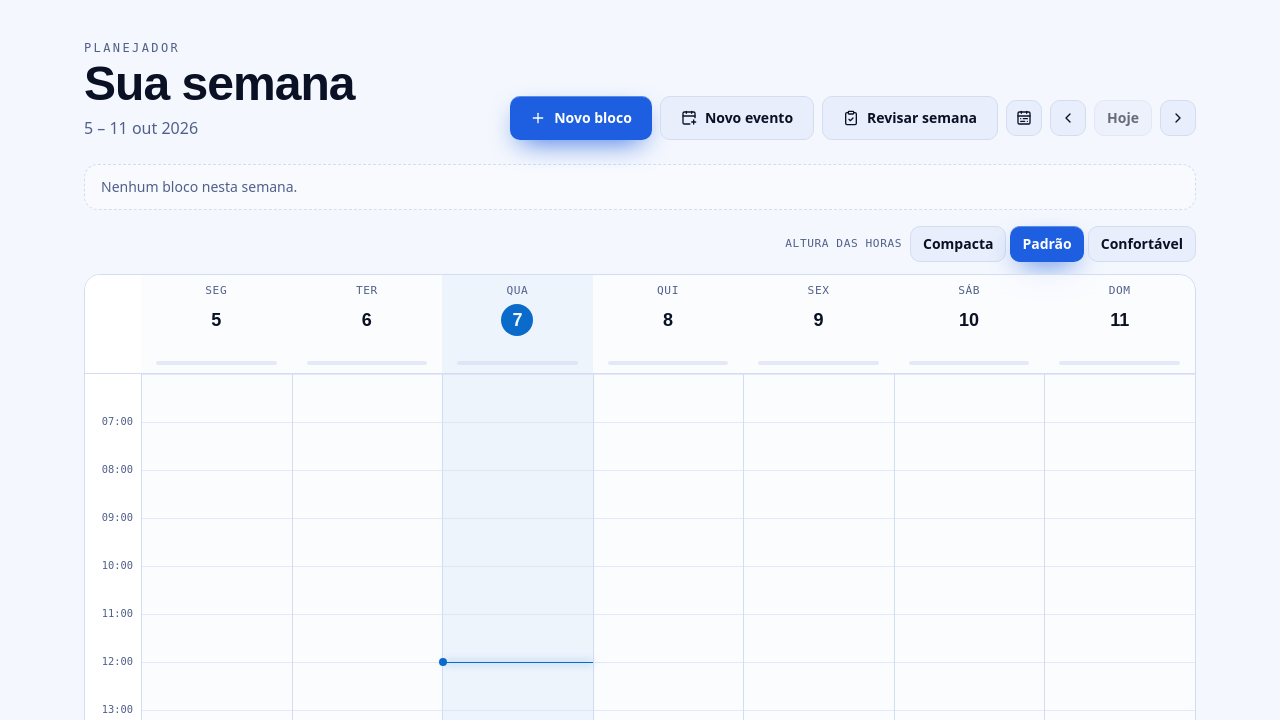
Test: eventos na Semana › criar evento › mostra o erro do servidor e mantém o diálogo aberto
Click the button "Novo evento" at {"x": 737, "y": 118}, box [660,96,814,140]
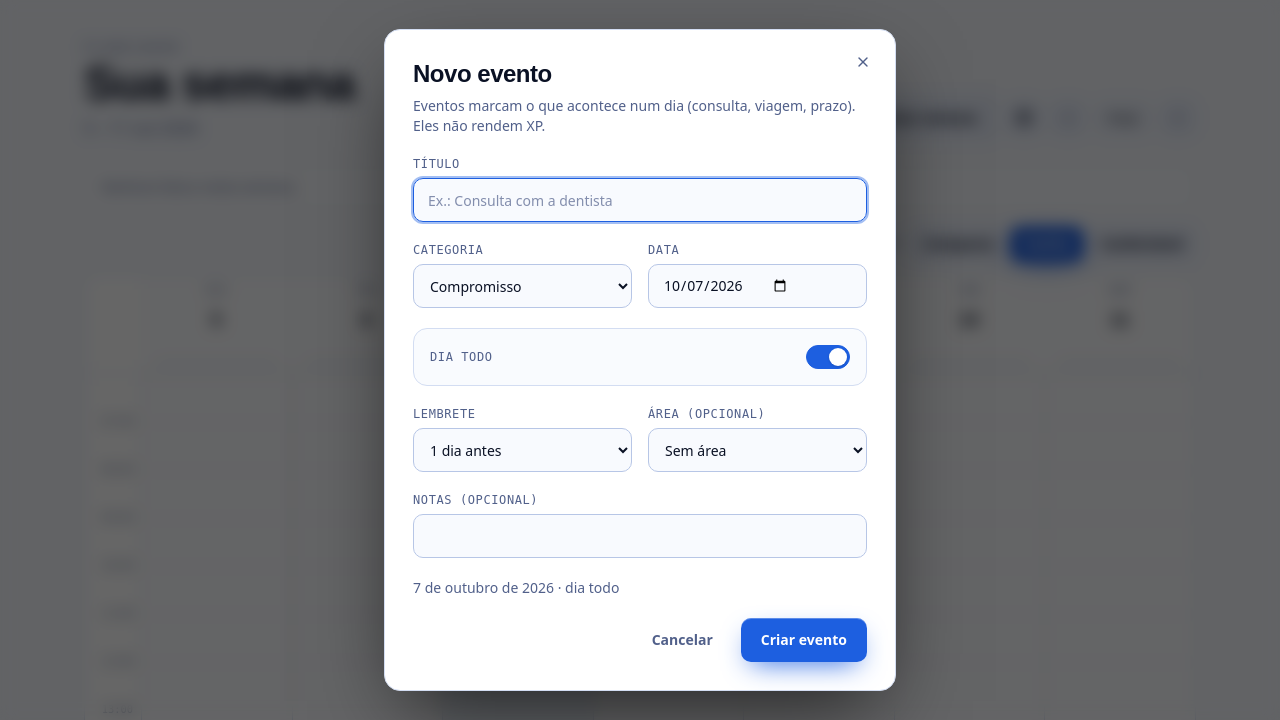
Type "Evento" into the field labelled "Título" at {"x": 640, "y": 200}, box [413,178,867,222]
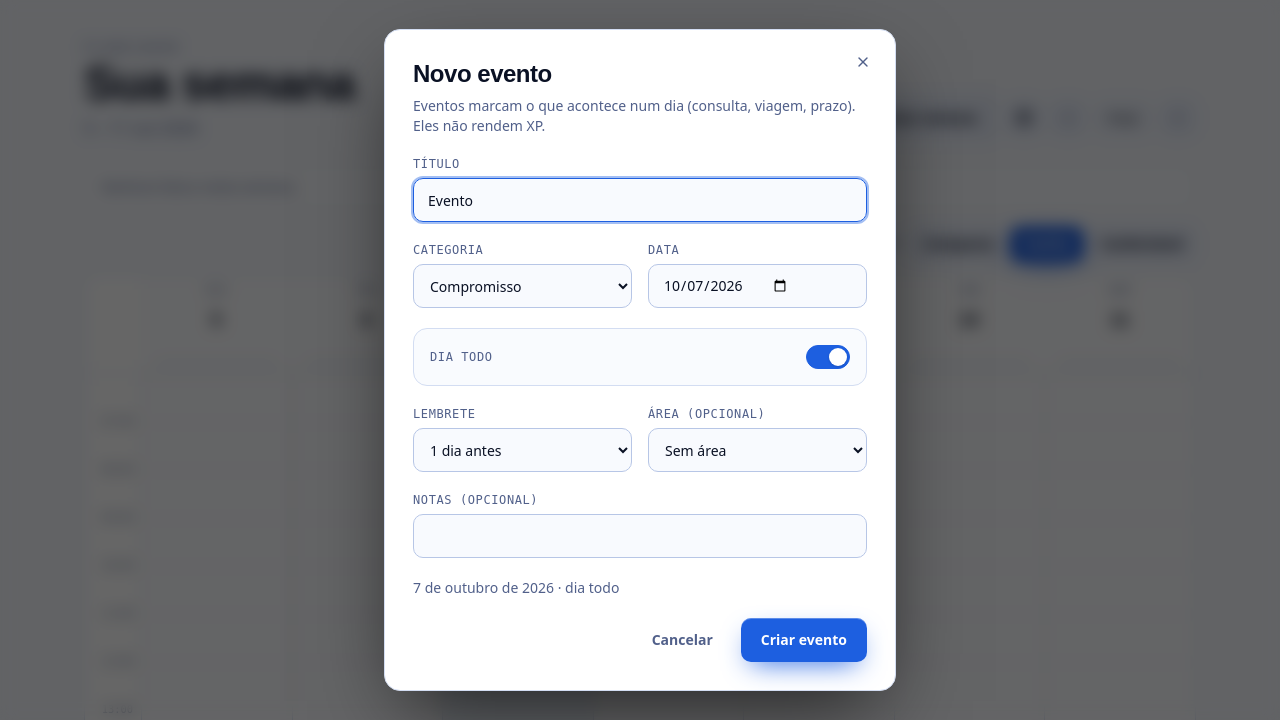
Click the button "Criar evento" at {"x": 804, "y": 640}, box [741,618,867,662]
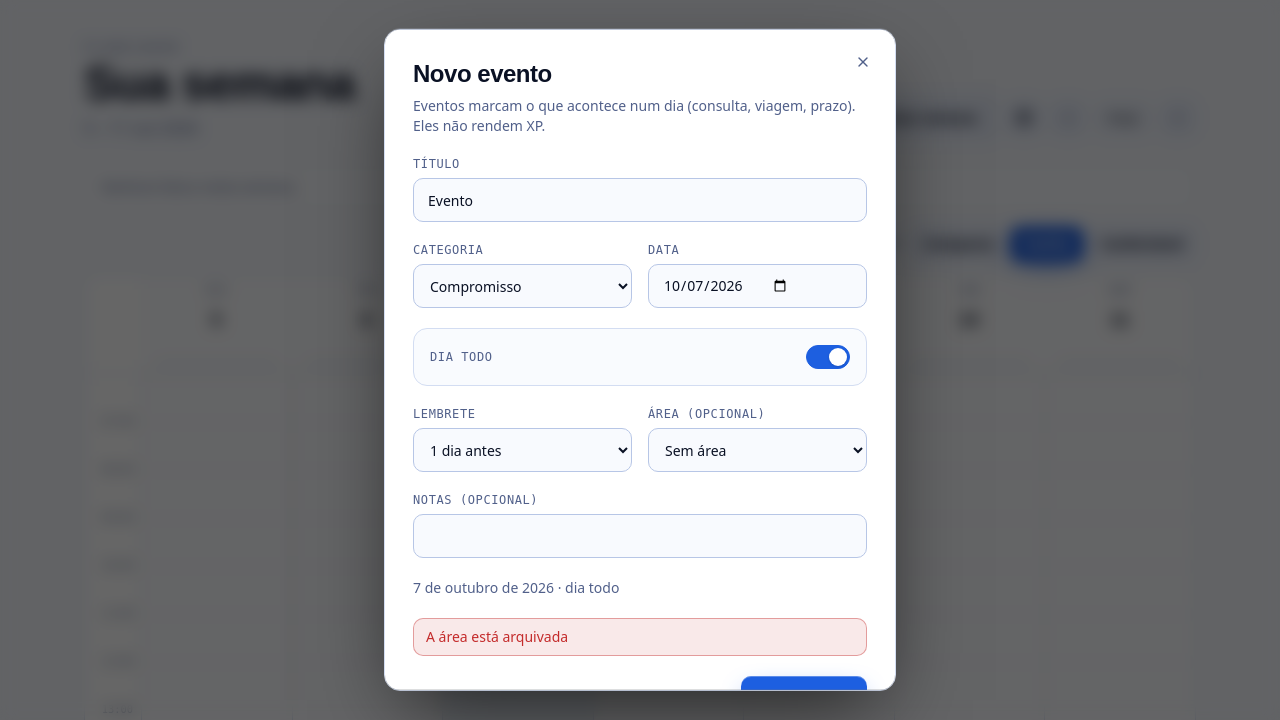
expect the dialog is shown: met, box [384,29,896,691]
expect the message reads "A área está arquivada": met, box [426,627,568,646]
